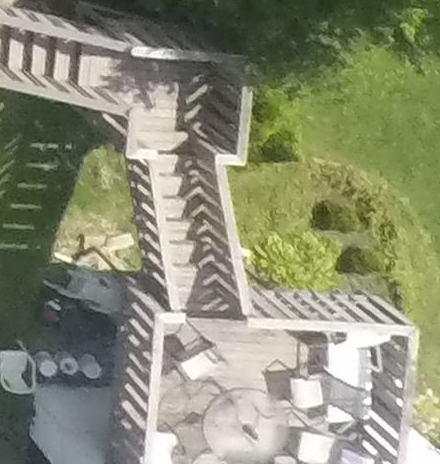chair: (1, 336, 44, 399)
container: (52, 346, 78, 379), (78, 353, 106, 382)
table: (200, 382, 298, 464)
